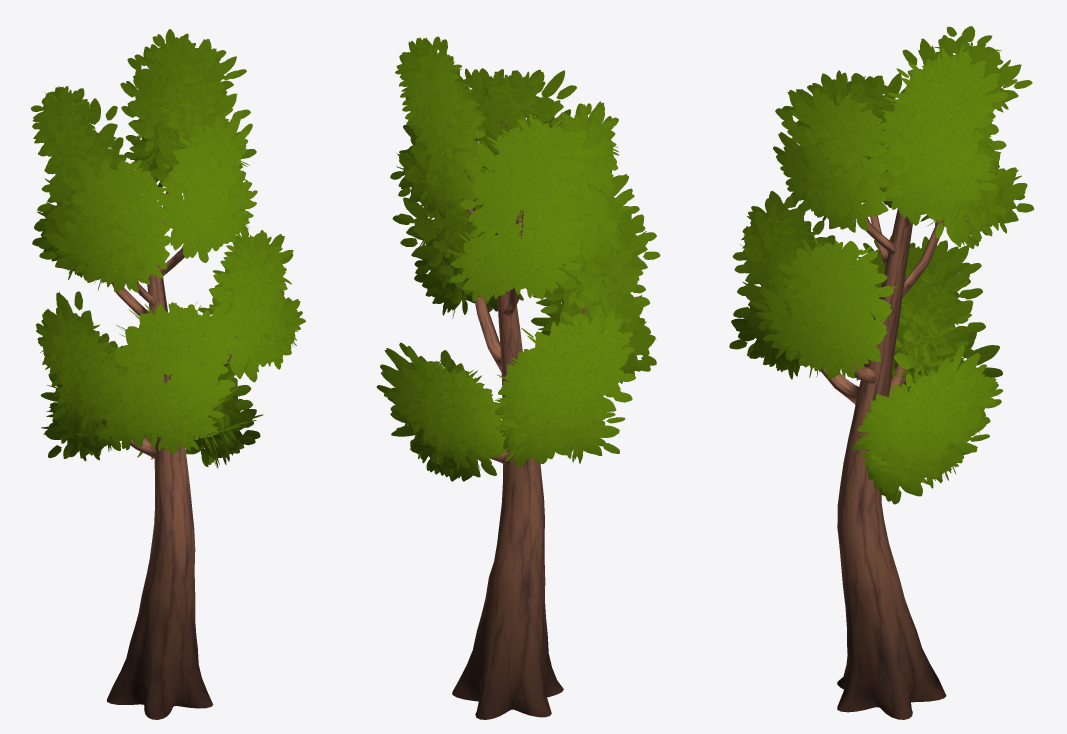
File: tree_tall.l.8bc76e8e.glb
3 renders of one model, left to right at view 1: azimuth 30°, elevation 25°; view 2: azimuth 150°, elevation 25°; view 3: azimuth 270°, elevation 25°, orthographic. The views are drawn at different scales.
Parts seen in each view (by area): view 1: CommonTree_3; view 2: CommonTree_3; view 3: CommonTree_3.
Boxes of the visible parts, <box> form: CommonTree_3: <box>30,29,305,719</box>; CommonTree_3: <box>376,36,660,719</box>; CommonTree_3: <box>729,26,1033,719</box>.
Size of the model in its own units: 4.06 by 9.43 by 4.24.
Materials: 2 (2 with a texture image).
